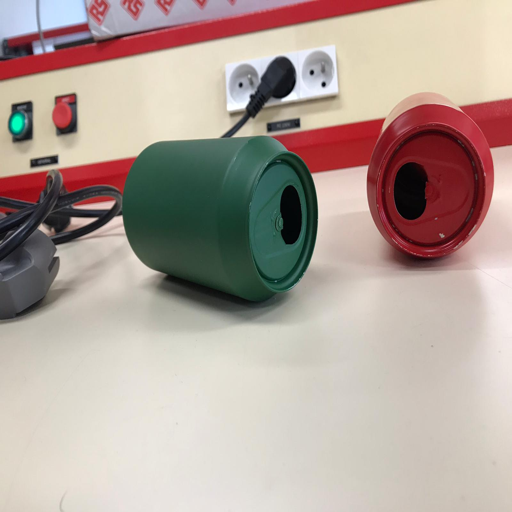Green_Can: (119, 134, 319, 305)
Red_Can: (363, 90, 495, 261)
